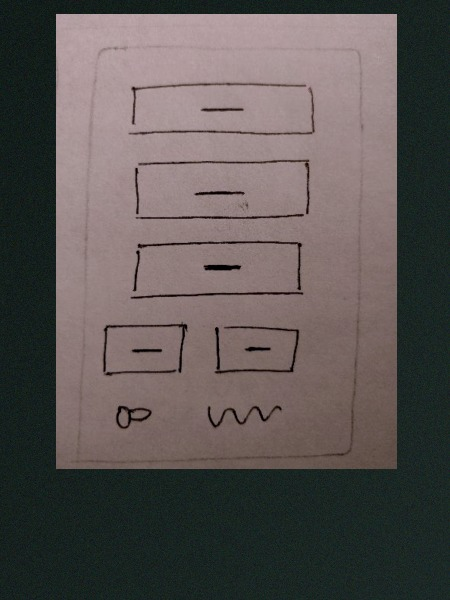button: (123, 72, 321, 141), (125, 235, 312, 304), (125, 158, 320, 223), (206, 320, 306, 384), (98, 319, 194, 382)
switch: (102, 399, 160, 432)
text: (198, 398, 287, 436)
